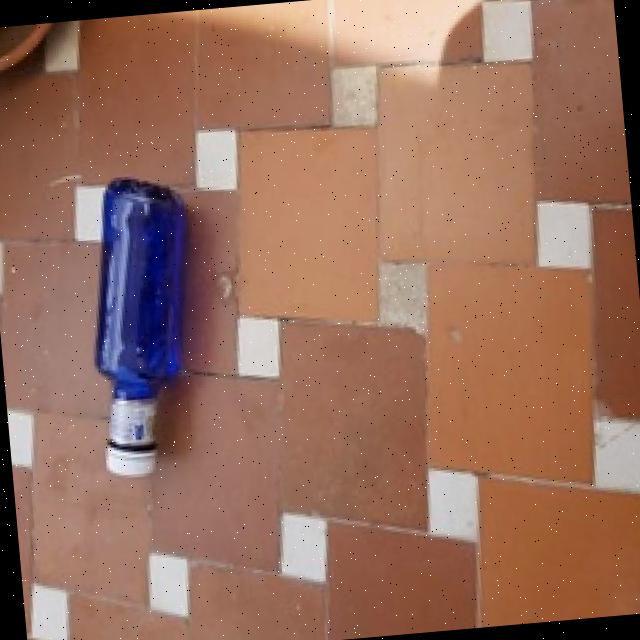bottle: (61, 162, 221, 494)
